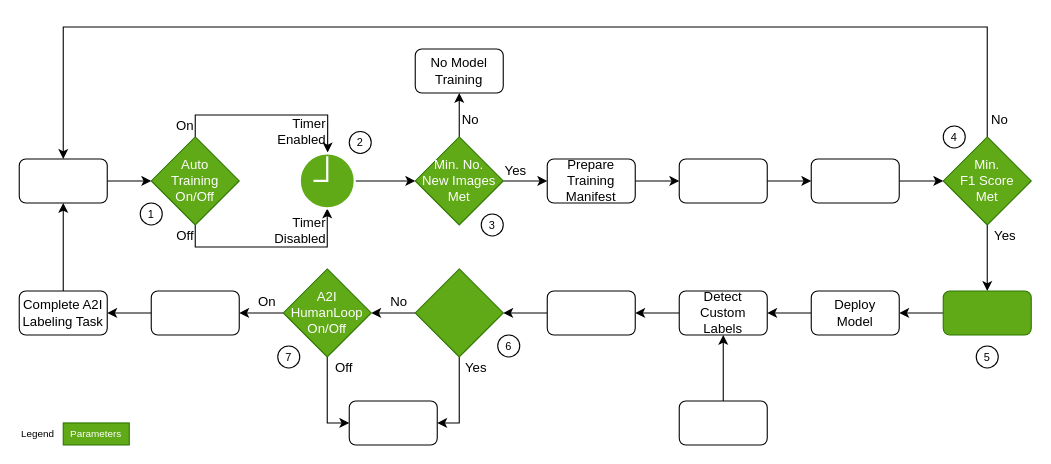
Some shapes in this 1051 by 464 pixel diagram are drawn without their labels. Here are the shapes that lost their labels. From the top down, the centre of each, then its label:
At point 62,180: "Collect Images".
At point 722,180: "Train Rekognition Model".
At point 854,180: "Evaluate Model".
At point 194,312: "Create A2I Labeling Task".
At point 458,312: "Min. Confidence Met".
At point 590,312: "Return Results".
At point 986,312: "Set Rekognition Inference Unit".
At point 392,422: "Detection Complete".
At point 722,422: "Upload Images".
